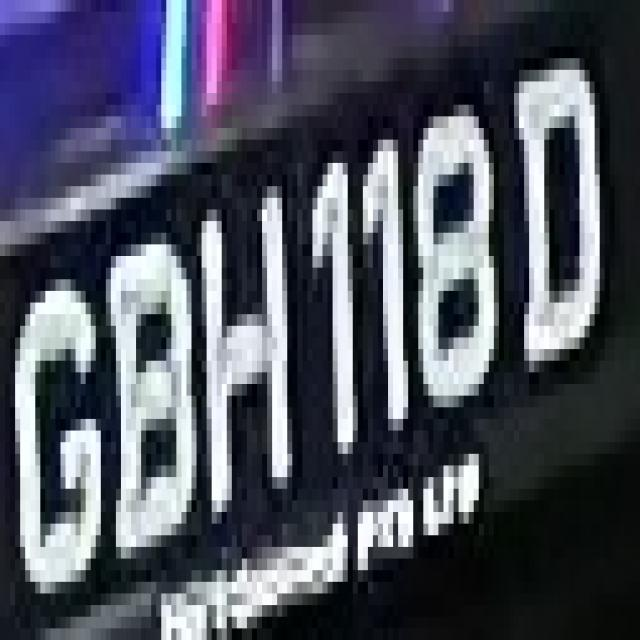1: (297, 104, 363, 488), (348, 105, 418, 465)
8: (413, 93, 504, 407)
B: (90, 198, 202, 547)
D: (509, 35, 605, 384)
G: (0, 221, 96, 605)
H: (202, 175, 308, 535)
